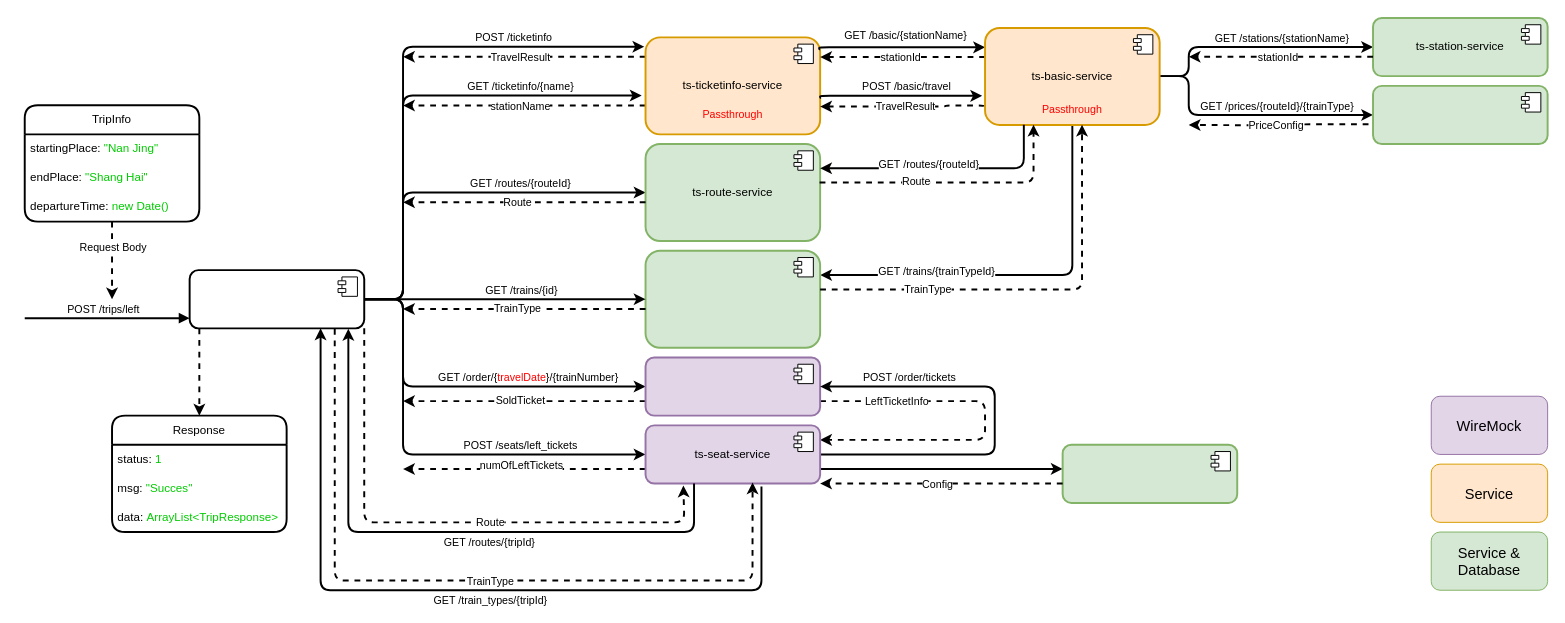
Image size: 1565x623. Some labels were removed from this diagram. Here are the shapes that lost their labels. From the top down, the centre of each, then its label:
the point at 1460,114: ts-price-service
the point at 276,299: ts-travel-service
the point at 732,298: ts-train-service
the point at 732,386: ts-order-service
the point at 1149,473: ts-config-service
